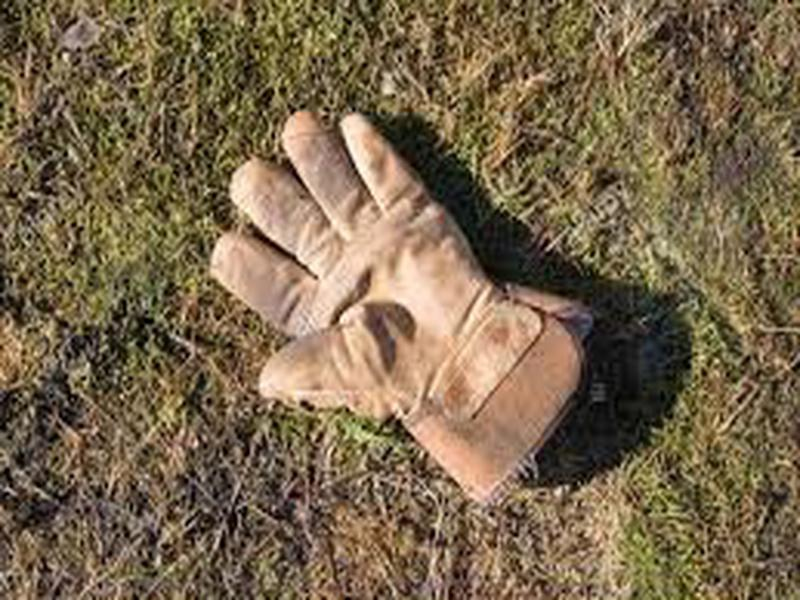gloves: (189, 103, 608, 512)
